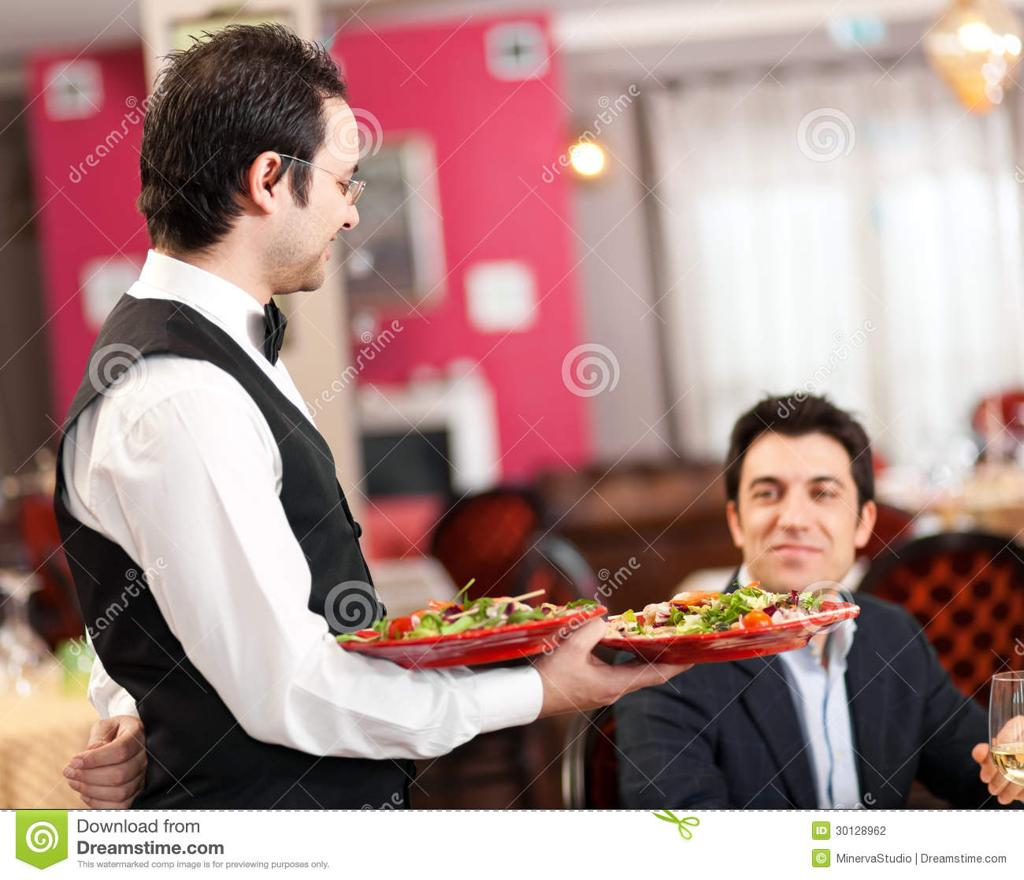face: (262, 42, 368, 290), (742, 432, 858, 596)
